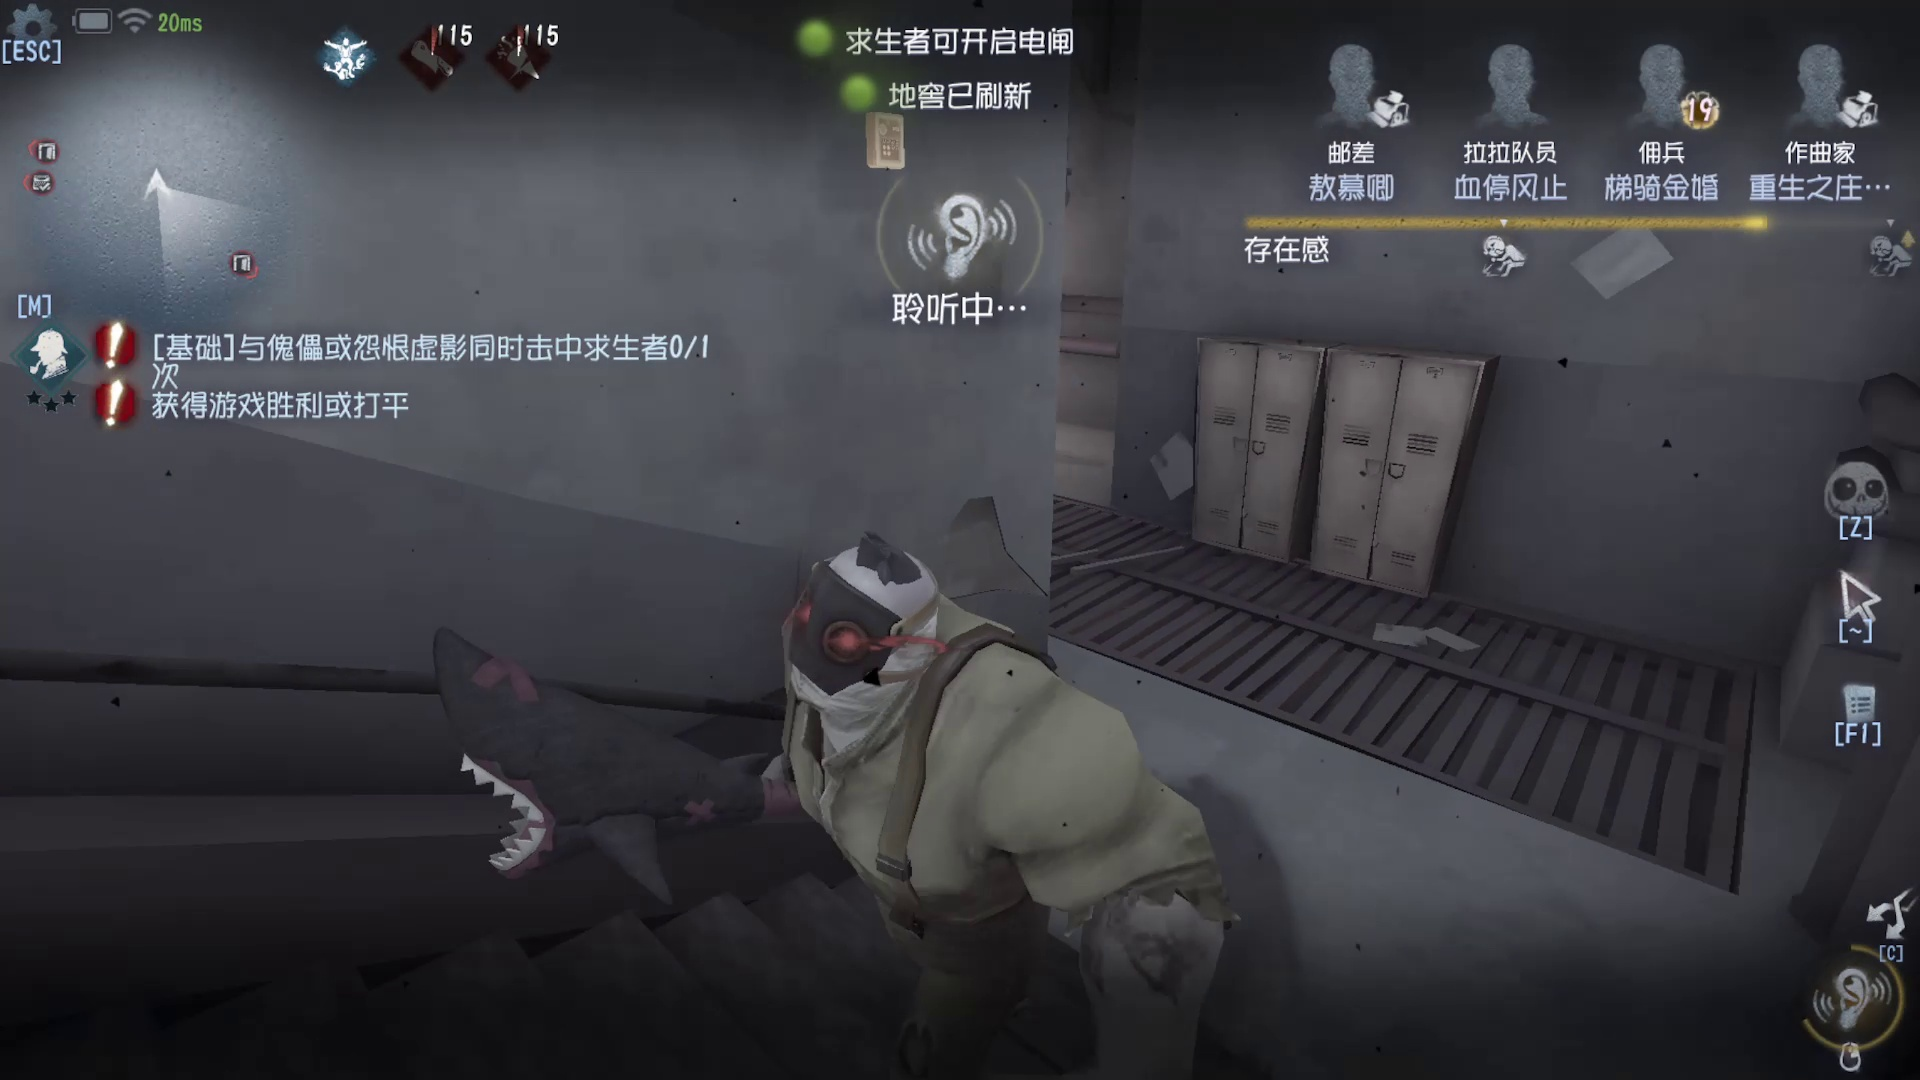设置: (1, 1, 98, 80)
